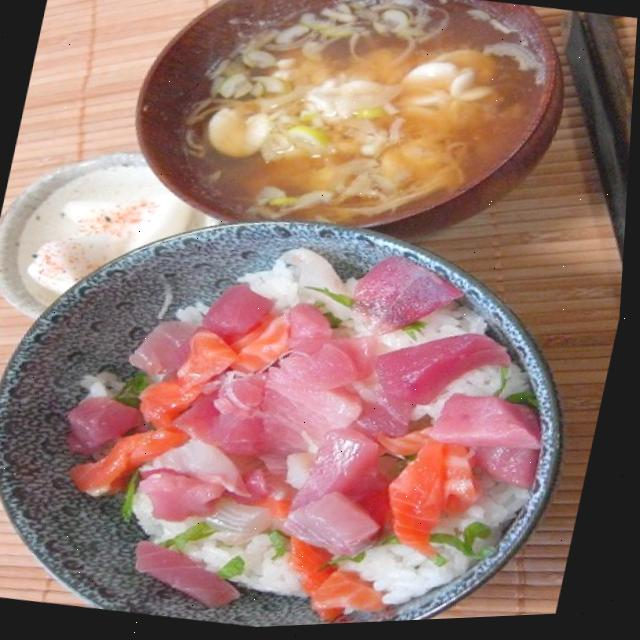刺身生食: (0, 175, 611, 640)
